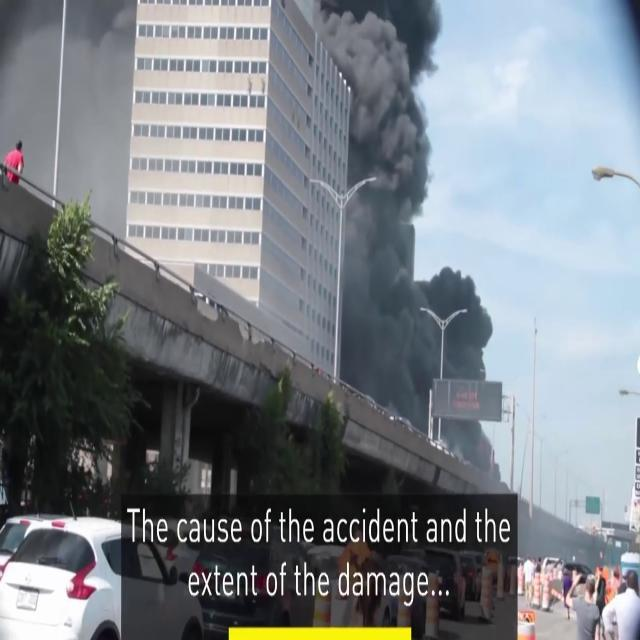Smoke: (322, 0, 502, 467)
